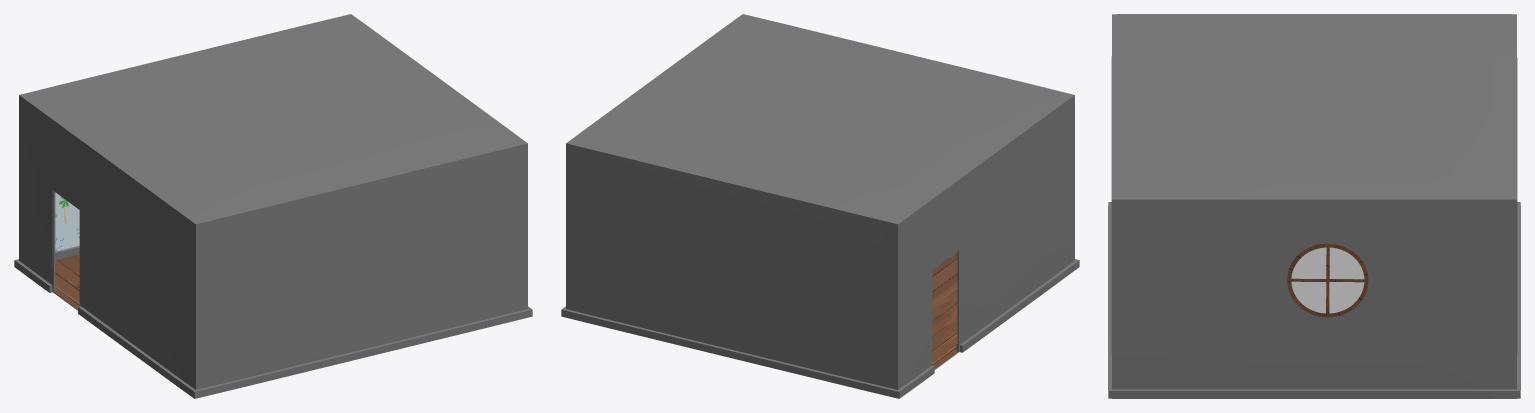
File: Cuarto niño.fbx
3 views of the same model, side by side, from view 1: azimuth 30°, elevation 25°; view 2: azimuth 150°, elevation 25°; view 3: azimuth 270°, elevation 25° (orthographic). The views are drawn at different scales.
Parts seen in each view (by area): view 1: Box003, piso, PivotDoor001; view 2: Box003, piso, PivotDoor001; view 3: Box003, Cylinder003, Cylinder004.
Boxes of the visible parts, <box> form: Box003: <box>14,14,532,398</box>; piso: <box>54,254,79,309</box>; PivotDoor001: <box>52,189,80,305</box>; Box003: <box>561,14,1079,398</box>; piso: <box>932,252,957,368</box>; PivotDoor001: <box>931,249,959,365</box>; Box003: <box>1108,14,1520,398</box>; Cylinder003: <box>1291,247,1364,313</box>; Cylinder004: <box>1287,243,1368,317</box>.
Bounding box in the file's own units: 415 × 203 × 384.
Materials: 6 (3 with a texture image).
